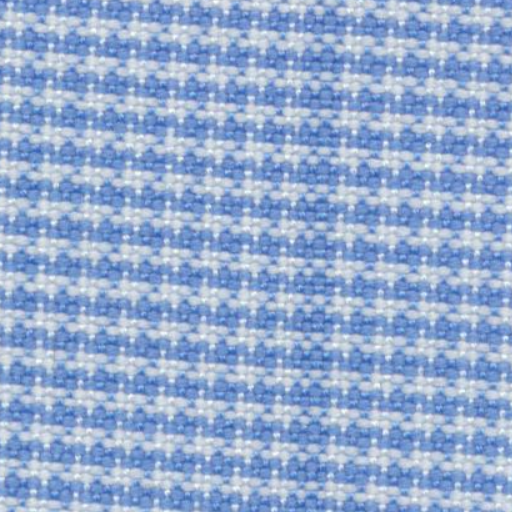TuoSha: (268, 12, 373, 498)
